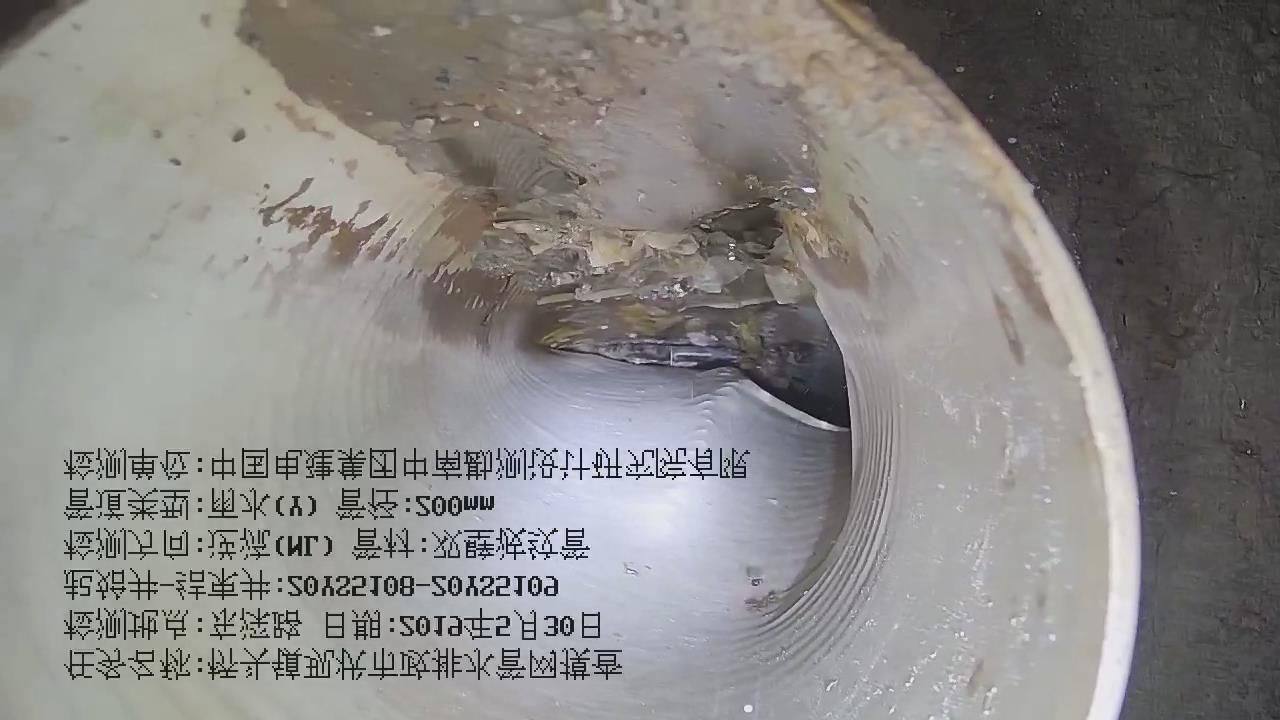BX: (470, 342, 862, 482)
CJ: (242, 1, 842, 393)
